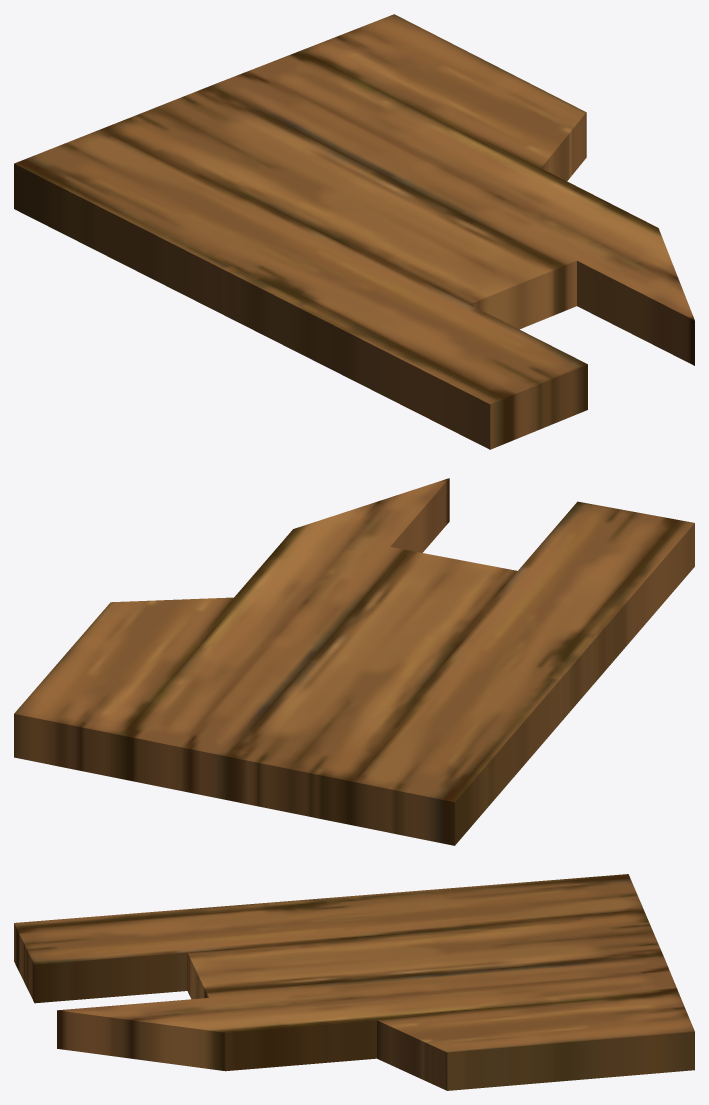
The model's file is sences_changbanpo_wujian007.FBX.
3 views of the same model, one above another, from view 1: azimuth 30°, elevation 25°; view 2: azimuth 150°, elevation 25°; view 3: azimuth 270°, elevation 25° (orthographic). The views are drawn at different scales.
Visible parts, largest first — view 1: sences_changbanpo_wujian007; view 2: sences_changbanpo_wujian007; view 3: sences_changbanpo_wujian007.
Boxes of the visible parts, x1,y1,x2,y2 form: sences_changbanpo_wujian007: (14,14,694,449); sences_changbanpo_wujian007: (14,478,694,845); sences_changbanpo_wujian007: (14,874,694,1090).
Size of the model in its own units: 0.9976 by 1.49 by 0.1362.
